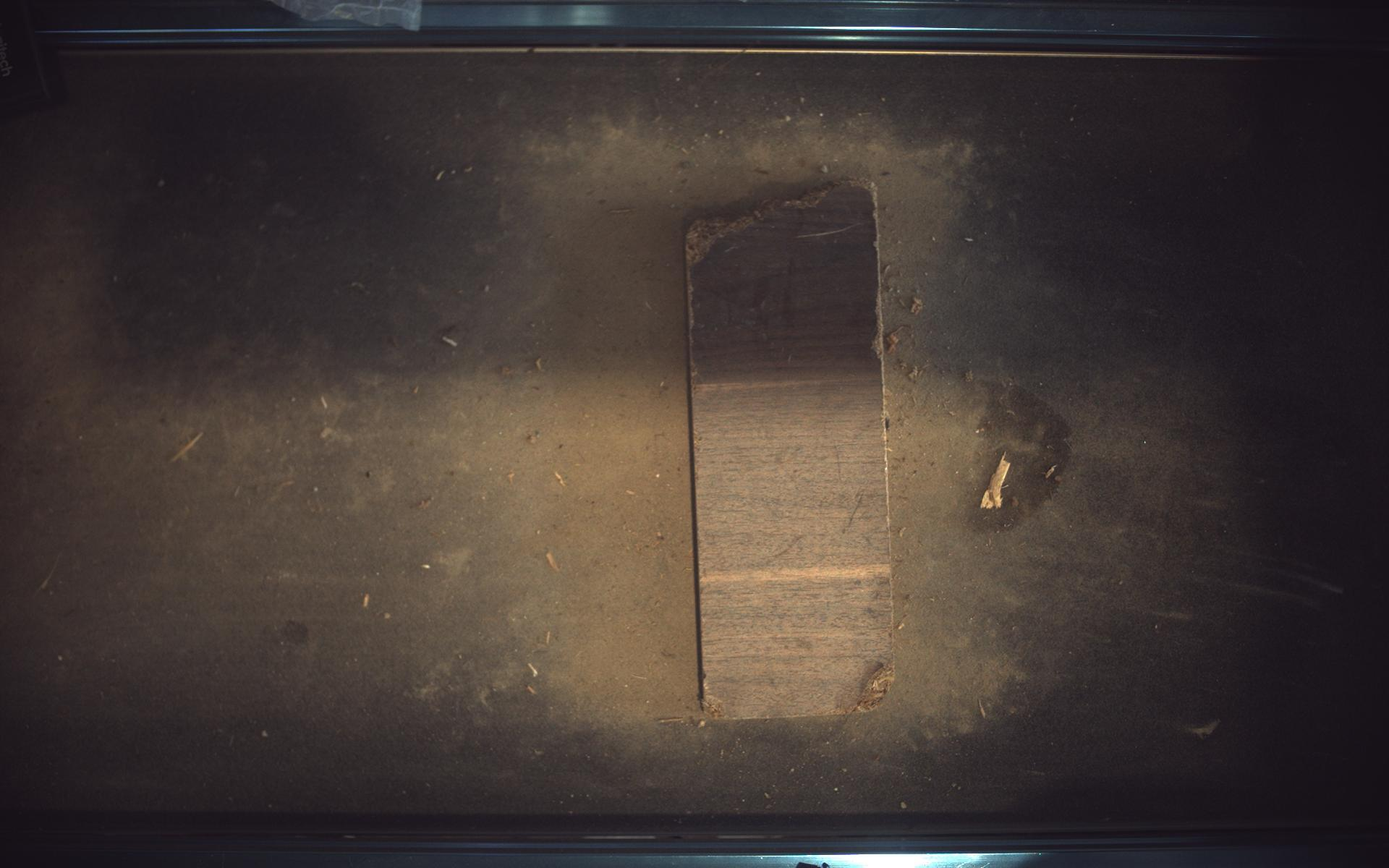wood: (688, 182, 895, 720)
